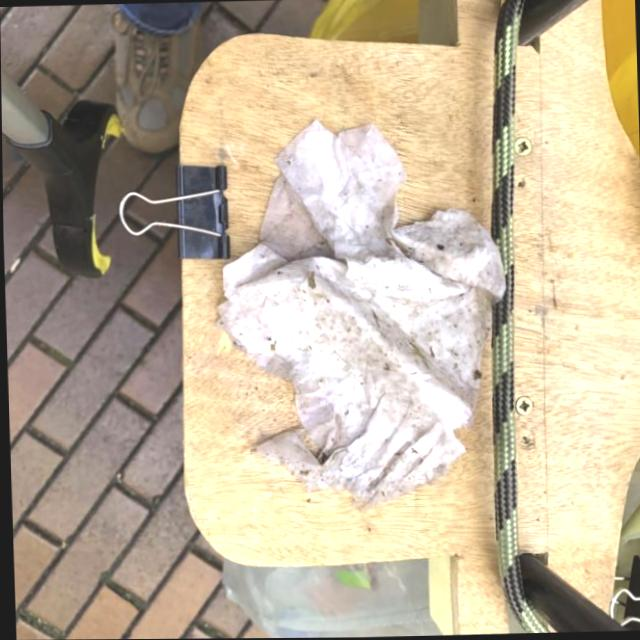Paper: (204, 115, 512, 521)
